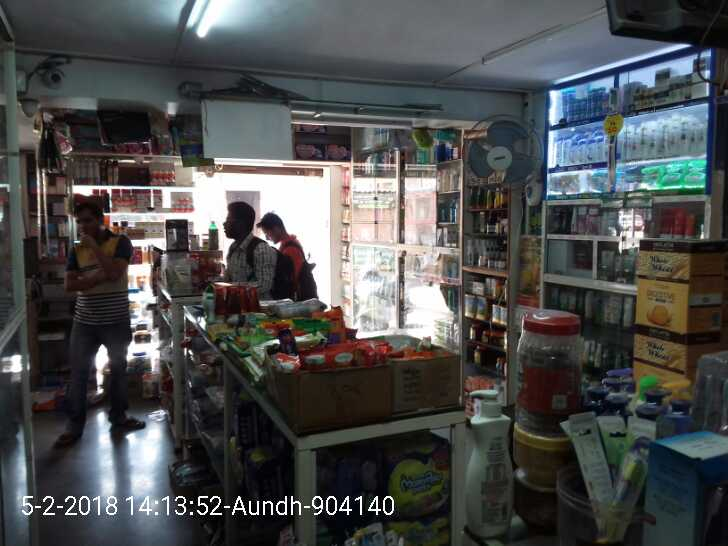vicks: (560, 76, 615, 121)
